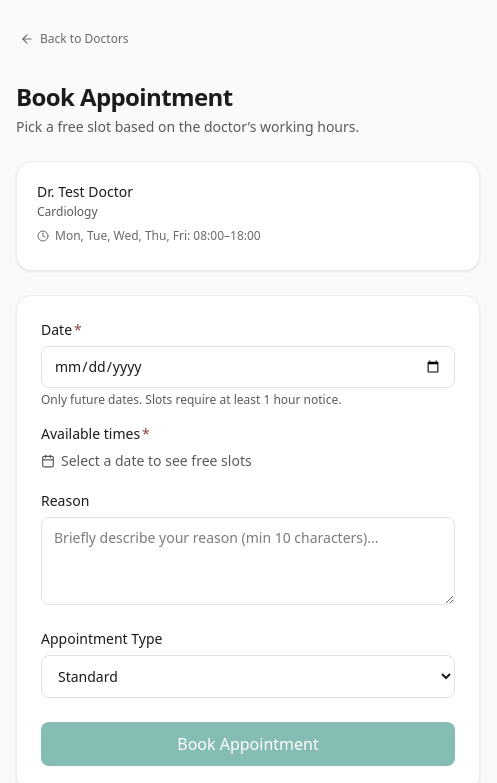
BookAppointmentPage › requires a selected slot before submit
Check: the text "Dr. Test Doctor" is shown, box [37,182,133,201]
In the text box labelled "Reason": [248, 561] box [41,517,455,605], type "Regular checkup and consultation."
(page scrolled)
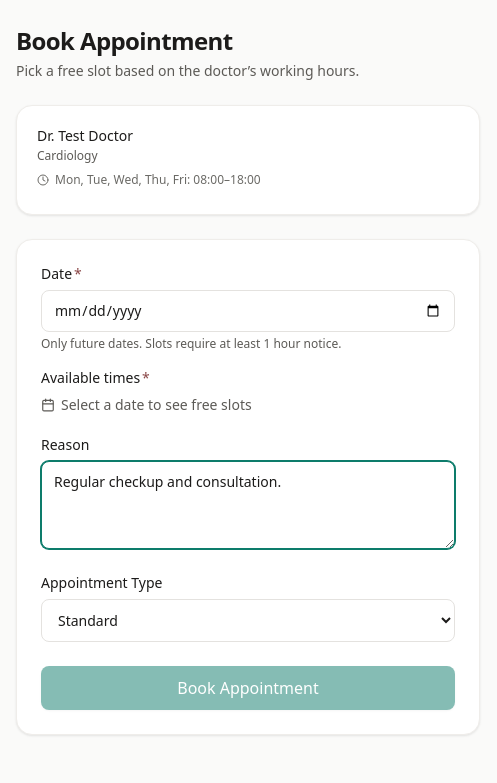
Submit the form, box [16,239,480,735]
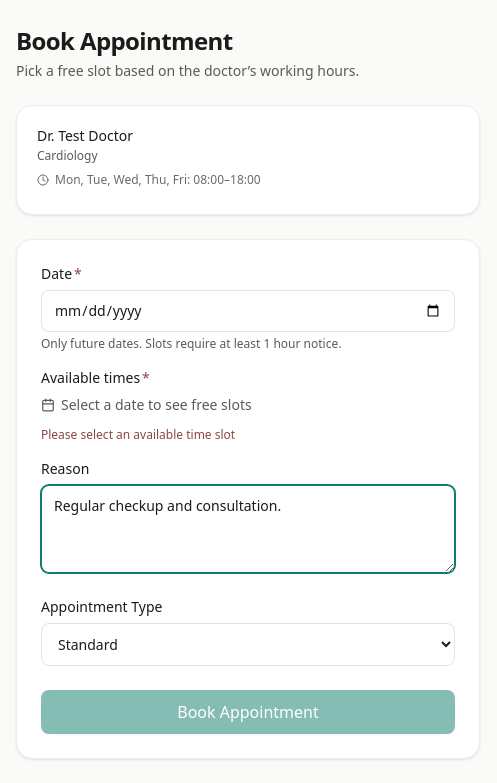
Check: the text "Please select an available time slot" is shown, box [41,426,235,443]
